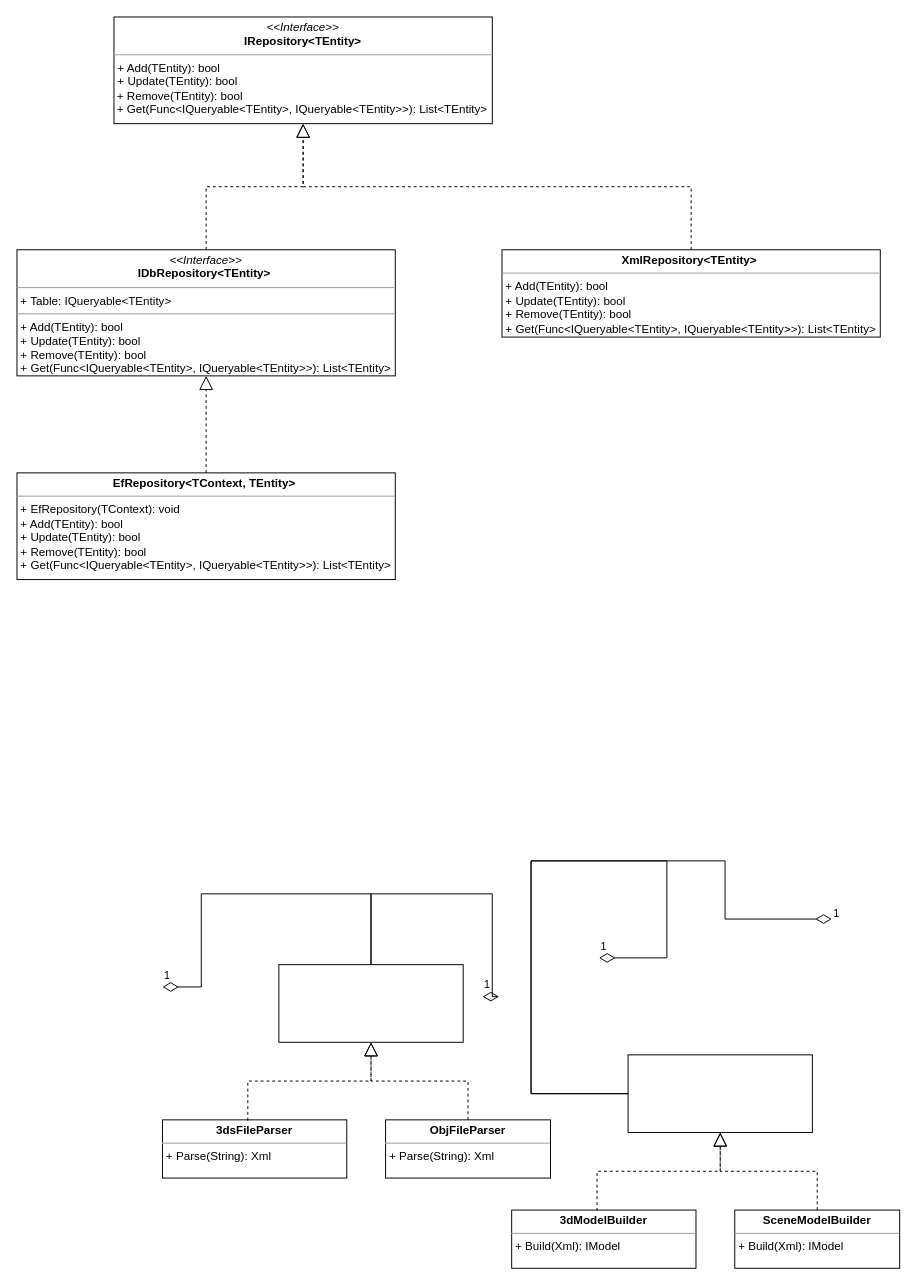
Image size: 917x1285. Some labels were removed from this diagram. The centre of each missing label's shape, as x and y in pixels:
"<<Interface>> IFileParser + Parse(String): Xml" belongs at (x=370, y=1003).
"<<Interface>> IModelBuilder + Build(Xml): IModel" belongs at (x=719, y=1093).
